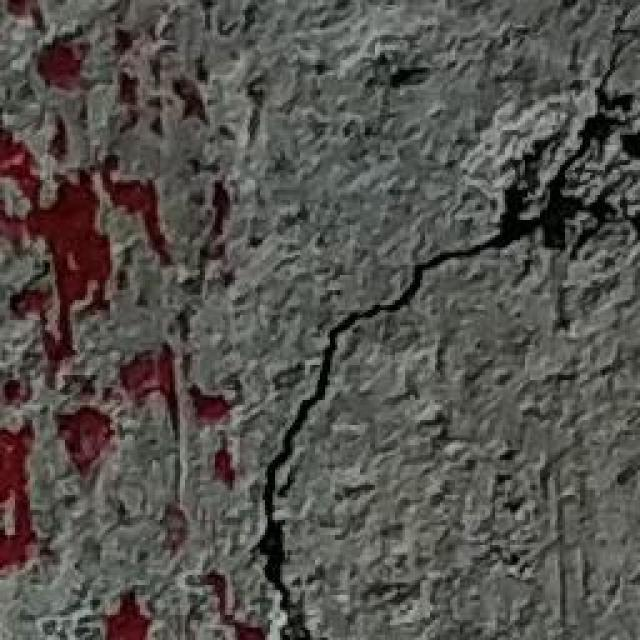Rippled: (243, 0, 640, 640)
